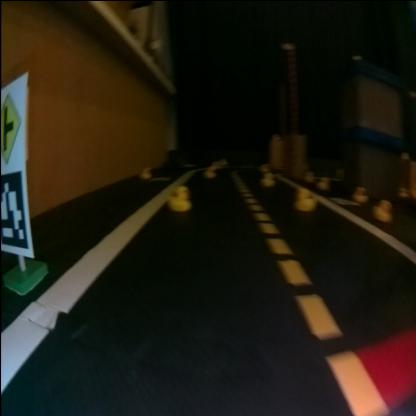Duckie: (294, 184, 316, 210), (168, 184, 190, 208), (374, 200, 392, 220), (262, 170, 274, 186), (318, 175, 329, 188), (142, 166, 150, 178), (206, 167, 214, 176)
Intersection sign: (3, 83, 24, 159)
QR code: (2, 169, 30, 249)
